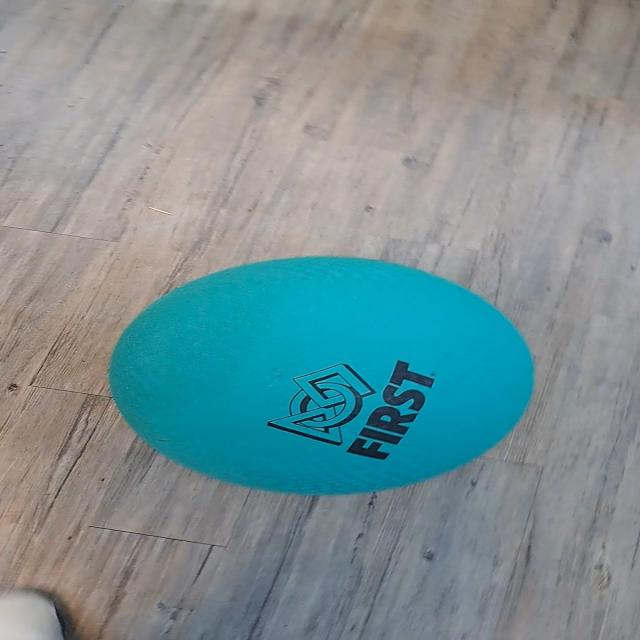ALGAE: (105, 254, 537, 496)
